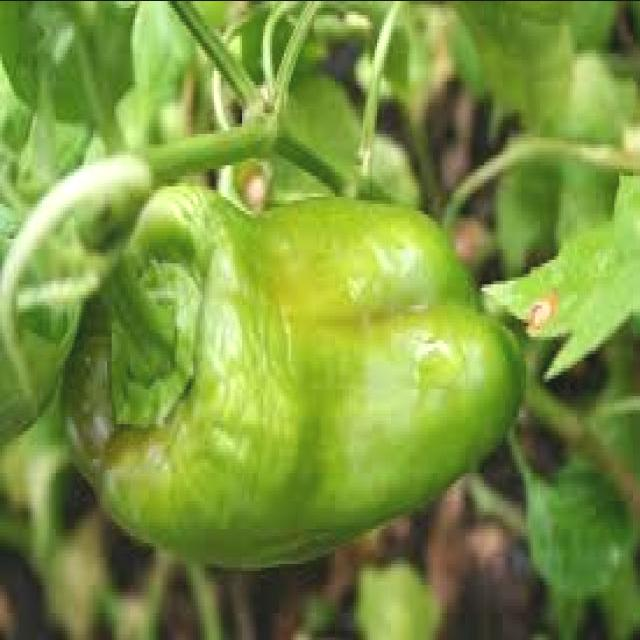bell_pepper: (66, 182, 531, 568)
